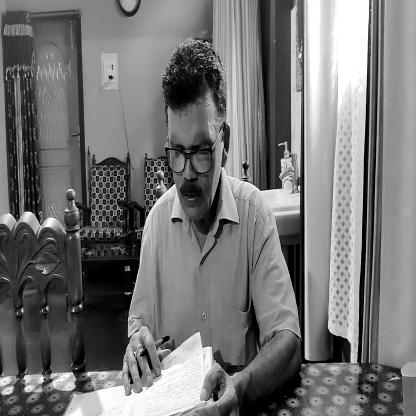Normal: (163, 40, 225, 224)
